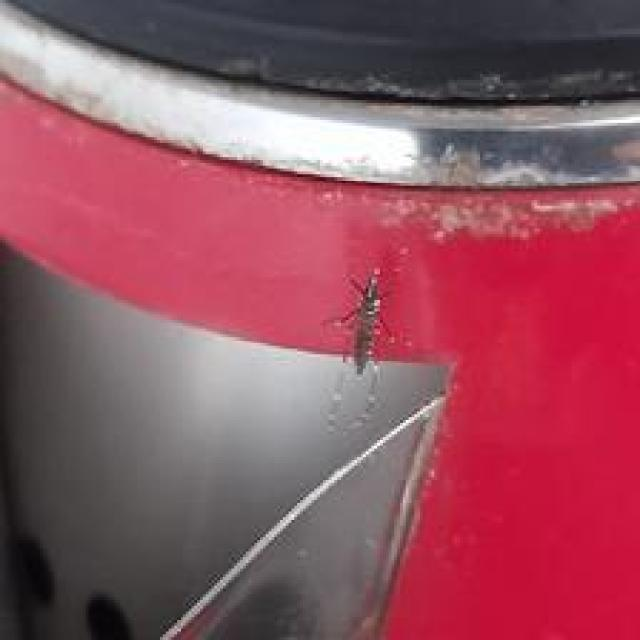Aedes albopictus: (320, 267, 394, 436)
